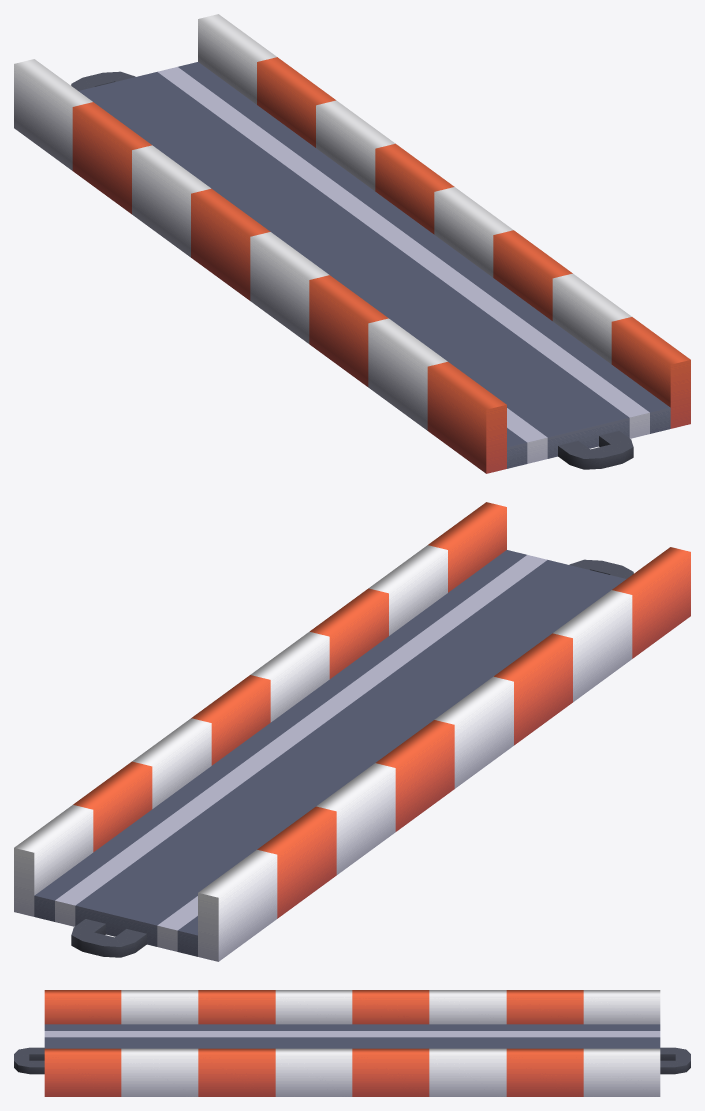
Rendered from track-road-narrow-straight.glb.
The picture shows the model from 3 angles, top to bottom: view 1: azimuth 30°, elevation 25°; view 2: azimuth 150°, elevation 25°; view 3: azimuth 270°, elevation 25°; orthographic projection. The views are drawn at different scales.
Parts seen in each view (by area): view 1: track-road-narrow-straight; view 2: track-road-narrow-straight; view 3: track-road-narrow-straight.
Part boxes in pixels (box(x1,y1,x2,y2)): track-road-narrow-straight: box(14, 14, 690, 473); track-road-narrow-straight: box(14, 502, 690, 961); track-road-narrow-straight: box(14, 990, 690, 1096).
Size of the model in its own units: 3 by 0.9 by 13.2.
Materials: 1 (1 with a texture image).
